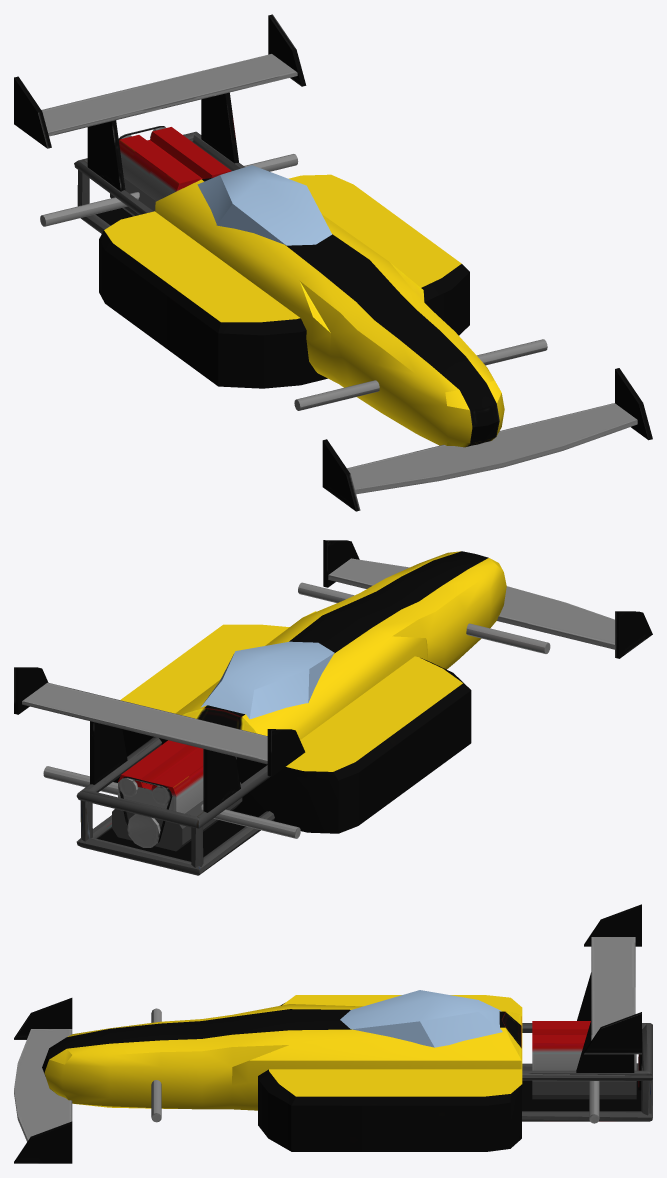
File: racecar.glb
3 renders of one model, top to bottom at view 1: azimuth 30°, elevation 25°; view 2: azimuth 150°, elevation 25°; view 3: azimuth 270°, elevation 25°, orthographic. The views are drawn at different scales.
Parts seen in each view (by area): view 1: racecar_racecar_001; view 2: racecar_racecar_001; view 3: racecar_racecar_001.
Boxes of the visible parts, bbox=[...] form: racecar_racecar_001: bbox=[14, 14, 652, 511]; racecar_racecar_001: bbox=[14, 540, 652, 875]; racecar_racecar_001: bbox=[14, 904, 652, 1163].
Size of the model in its own units: 1.03 by 0.5443 by 2.21.
1 material, 1 textured.
